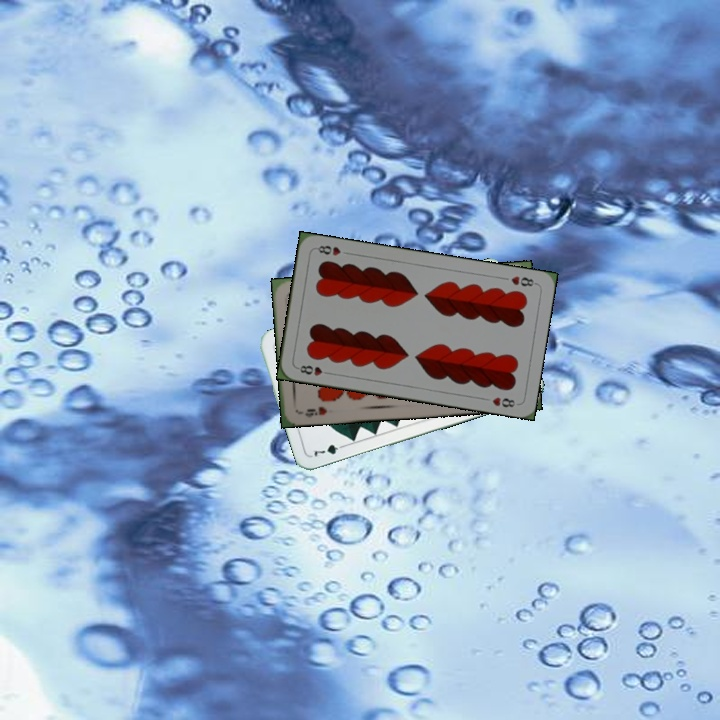G7: (309, 440, 349, 460)
H8: (293, 361, 334, 378), (507, 272, 539, 289)
H9: (296, 403, 330, 420)
